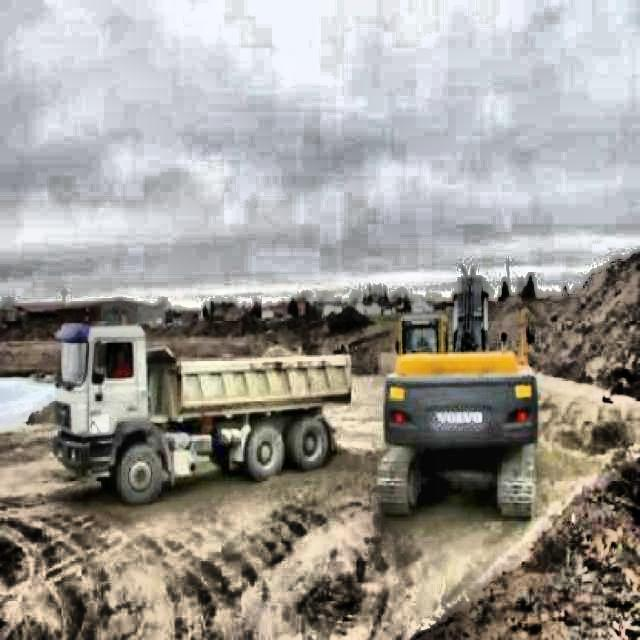dump_truck: (52, 320, 352, 505)
excavator: (376, 263, 538, 517)
